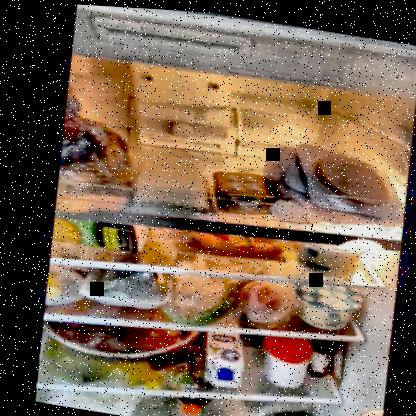broccoli: (83, 264, 166, 308)
butter: (210, 165, 274, 215)
carrot: (180, 224, 284, 263)
cheese: (132, 145, 211, 210)
green_chillies: (172, 277, 238, 327)
milk: (201, 328, 247, 385)
salami: (274, 138, 392, 205)
tomato: (242, 276, 285, 313)
yoghurt: (294, 280, 361, 327), (292, 236, 361, 275)
